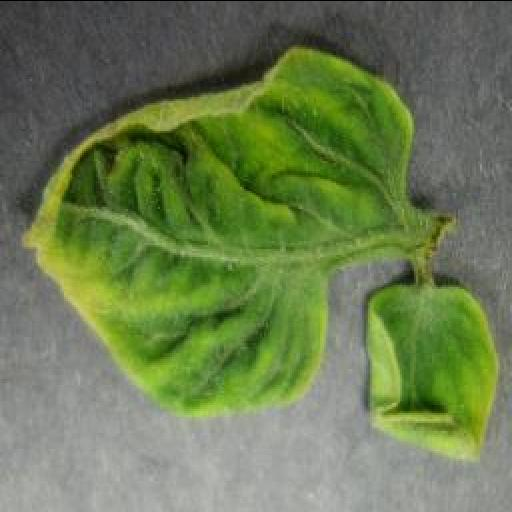disease_tomato: (18, 41, 414, 415), (365, 281, 495, 460)
